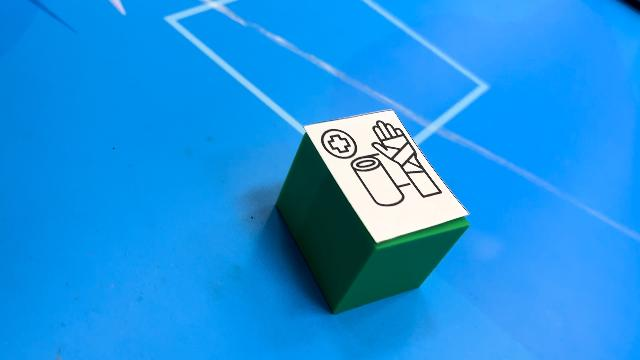bandage: (274, 110, 470, 314)
